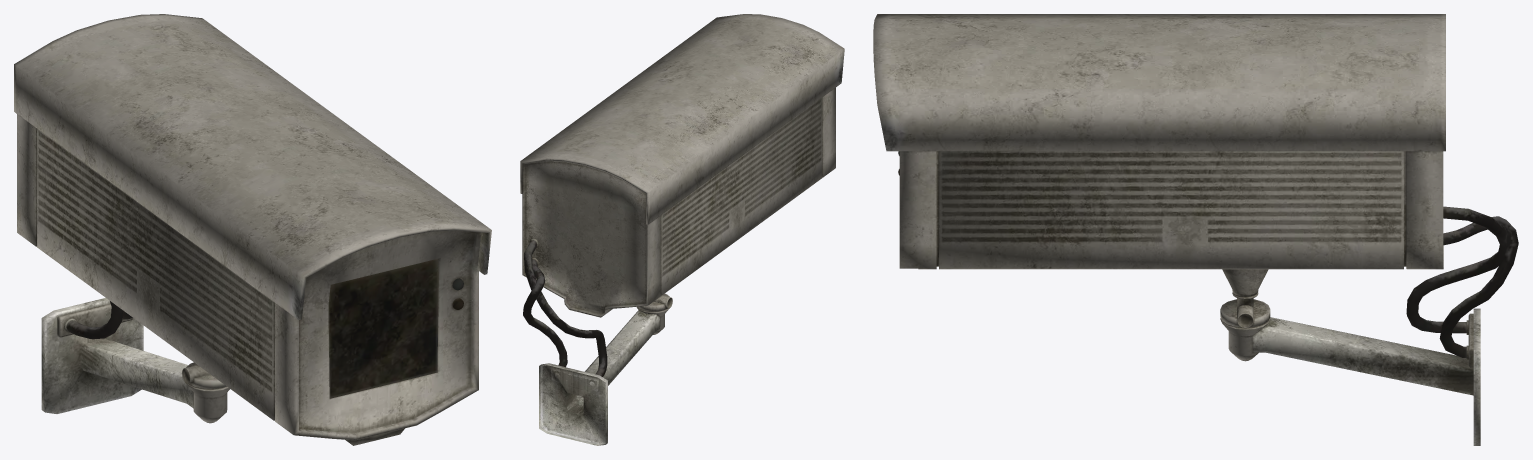
The model's file is cctv.glb.
3 renders of one model, left to right at view 1: azimuth 30°, elevation 25°; view 2: azimuth 150°, elevation 25°; view 3: azimuth 270°, elevation 25°, orthographic. The views are drawn at different scales.
Parts seen in each view (by area): view 1: defaultMaterial (×2); view 2: defaultMaterial (×2); view 3: defaultMaterial (×2).
Part boxes in pixels (x1,y1,x2,y2): defaultMaterial (×2): (14,14,491,445); defaultMaterial (×2): (520,14,844,445); defaultMaterial (×2): (873,14,1518,445).
Bounding box in the file's own units: 0.663 × 1.33 × 2.
Materials: 2 (2 with a texture image).
